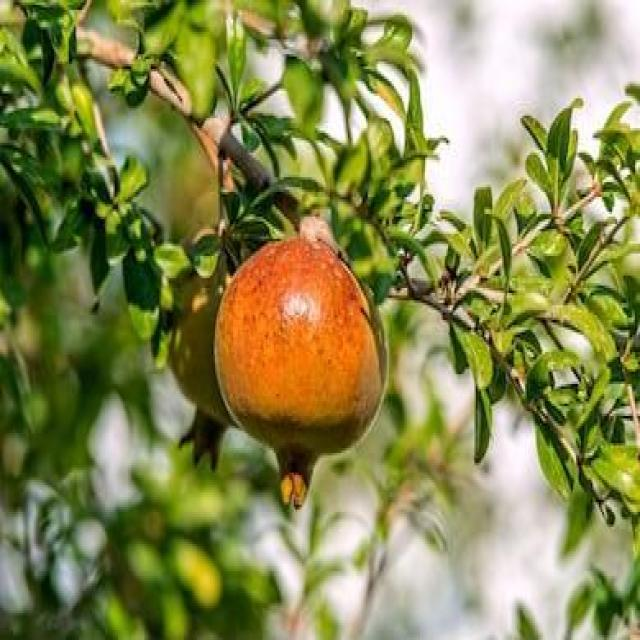Pomegranate: (214, 235, 392, 513)
